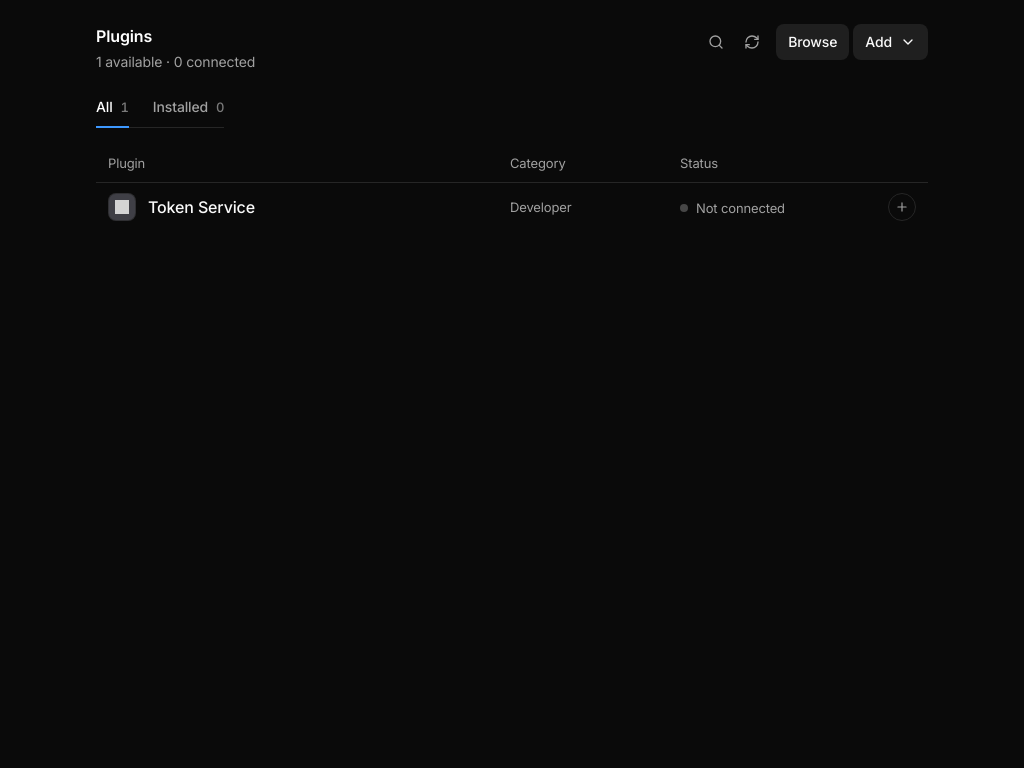
Test: PluginsView publishes every supported connection path immediately › publishes a PAT connection before catalog revalidation finishes
Click the button named "Connect plugin" at [902, 207], box x1=888 y1=193 x2=916 y2=221
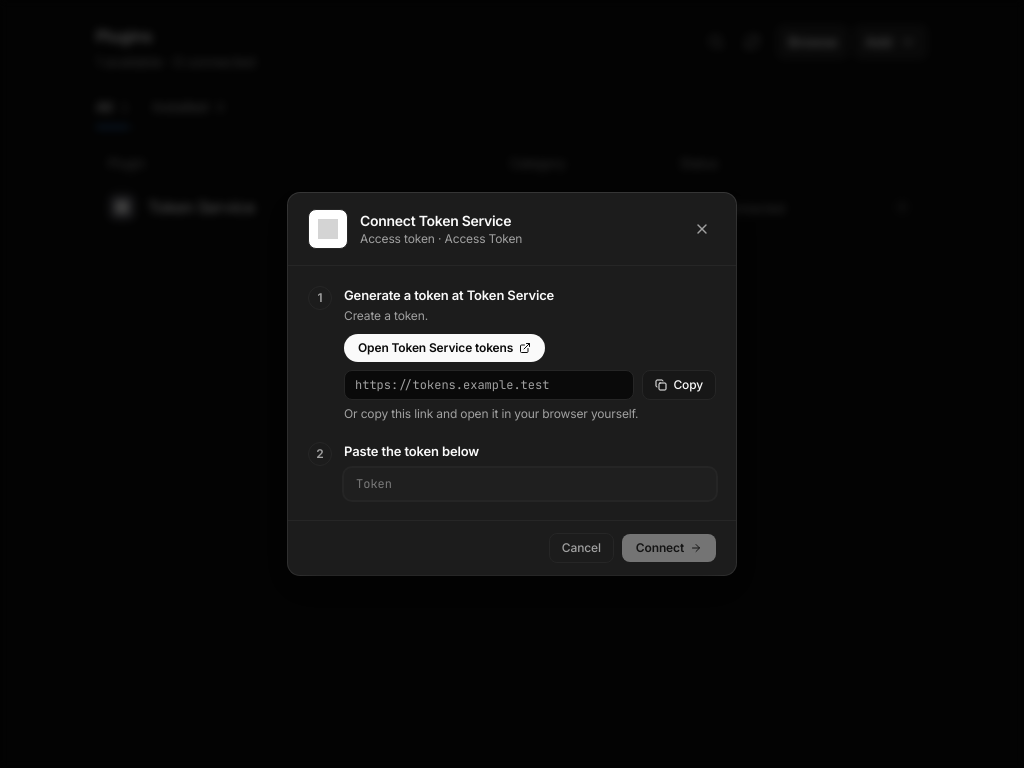
Type "test-token" into the password field with placeholder "Token" at [530, 484], box x1=344 y1=468 x2=716 y2=500
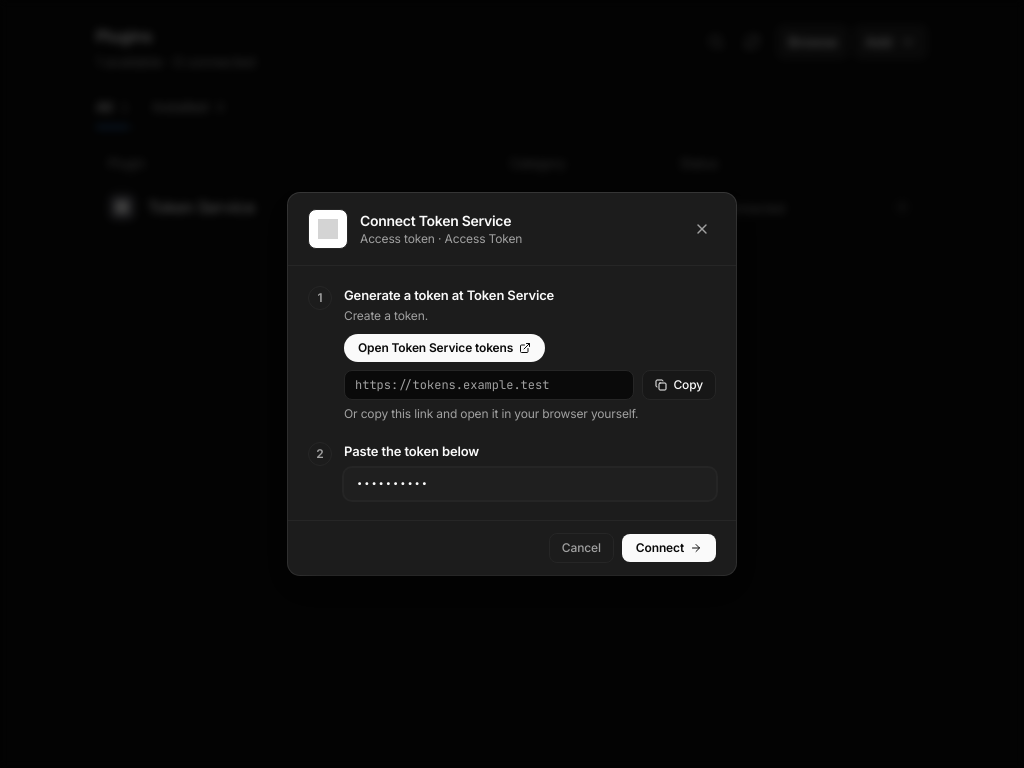
Click the button "Connect" at [669, 548], box x1=622 y1=534 x2=716 y2=562
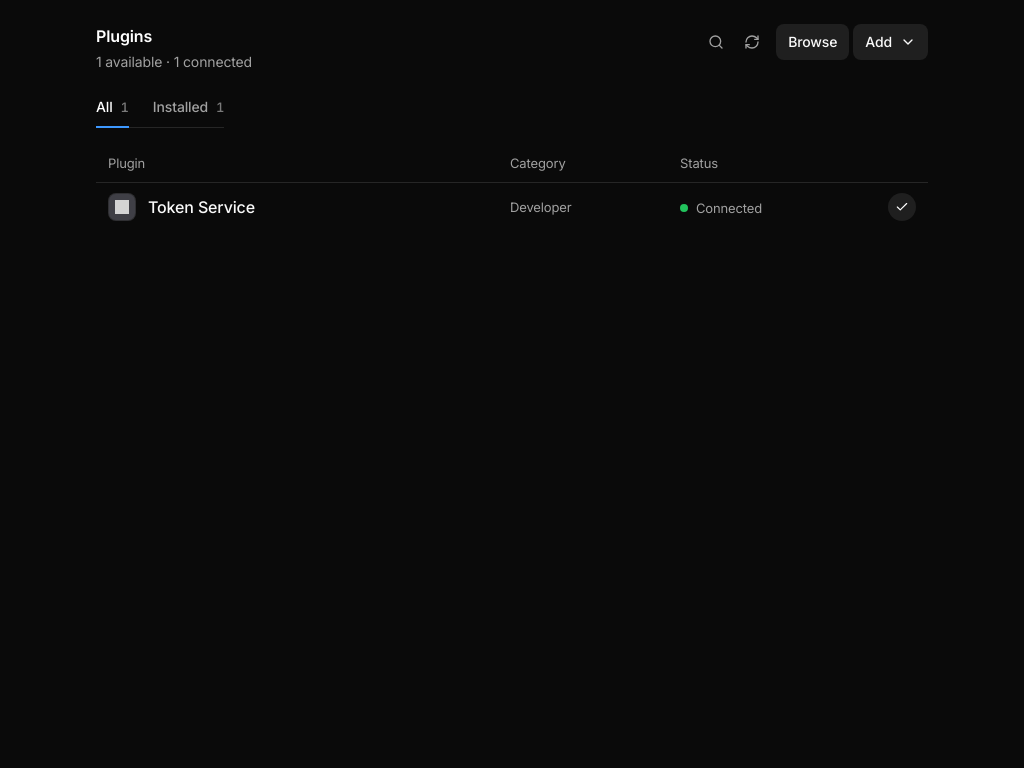
Result: the button named "Disconnect plugin" is shown at x1=888 y1=193 x2=916 y2=221
